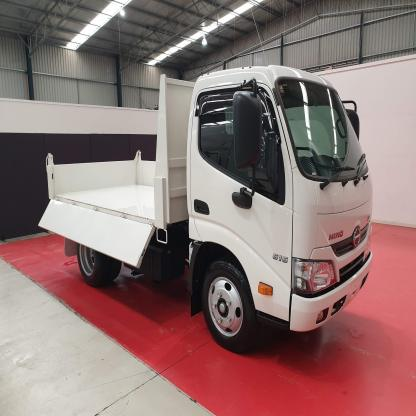dump_truck: (34, 58, 380, 356)
